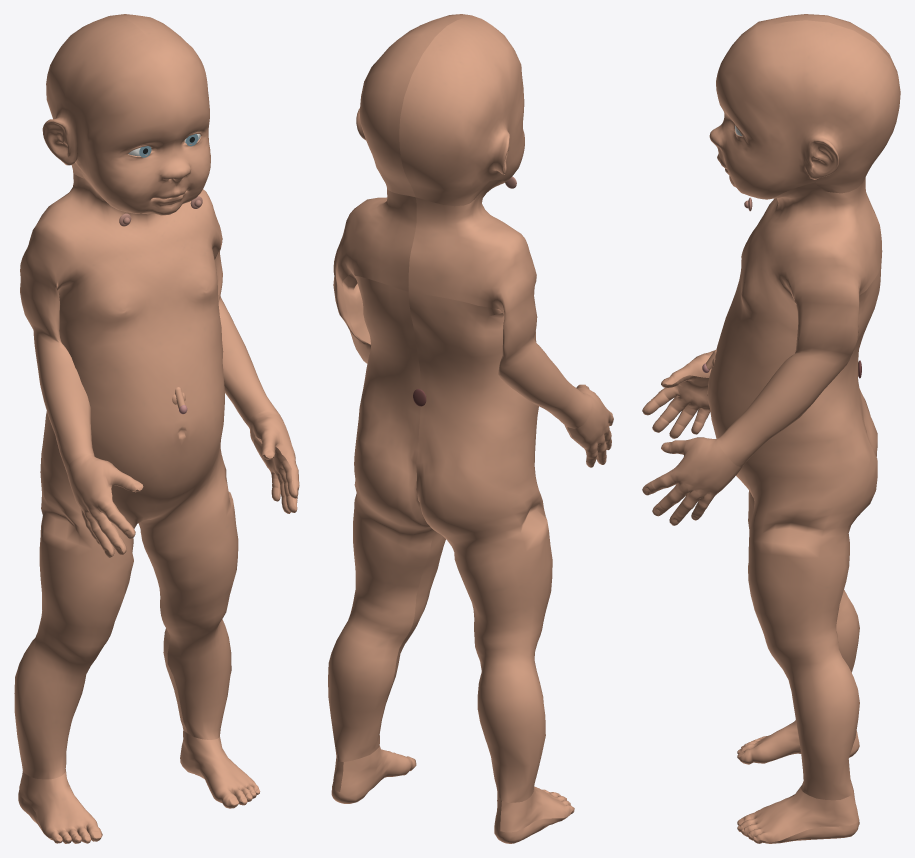
File: body-baby-maennlich-real-v3.glb
3 renders of one model, left to right at view 1: azimuth 30°, elevation 25°; view 2: azimuth 150°, elevation 25°; view 3: azimuth 270°, elevation 25°, orthographic.
Parts seen in each view (by area): view 1: real-human-body; view 2: real-human-body; view 3: real-human-body.
Boxes of the visible parts, x1,y1,x2,y2 form: real-human-body: (14,14,299,843); real-human-body: (328,14,613,843); real-human-body: (642,14,900,843).
Bounding box in the file's own units: 0.1926 × 0.68 × 0.2053.
8 materials, 1 textured.
